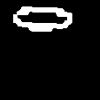chain: (13, 7, 71, 30)
